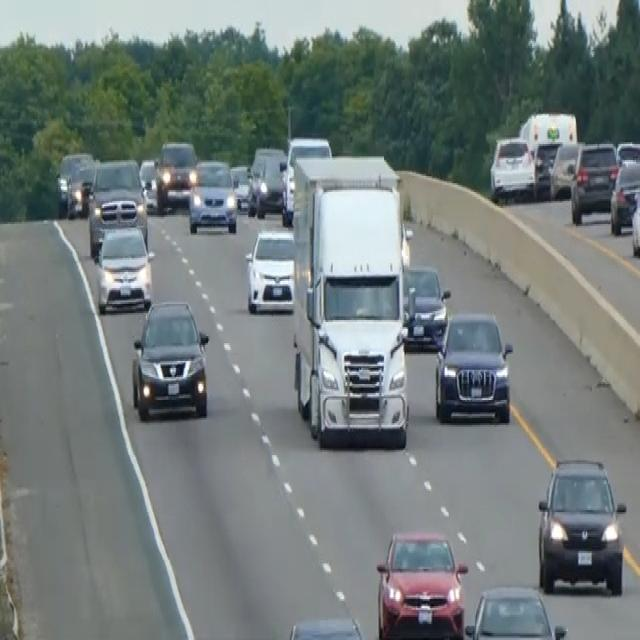car: (536, 455, 627, 596), (375, 528, 468, 638), (130, 297, 210, 419), (433, 309, 513, 425), (87, 156, 148, 255), (463, 582, 567, 638), (95, 224, 153, 313), (280, 133, 332, 224), (244, 226, 295, 313), (402, 262, 450, 351), (570, 139, 619, 224), (187, 156, 238, 234), (489, 133, 537, 201), (154, 137, 197, 210), (55, 149, 93, 215), (609, 156, 639, 234), (281, 614, 367, 638), (255, 153, 287, 217), (548, 141, 581, 199), (533, 138, 561, 196), (138, 156, 160, 210), (229, 162, 251, 212), (630, 181, 639, 258), (616, 139, 639, 167)
lorry: (290, 153, 411, 450)
